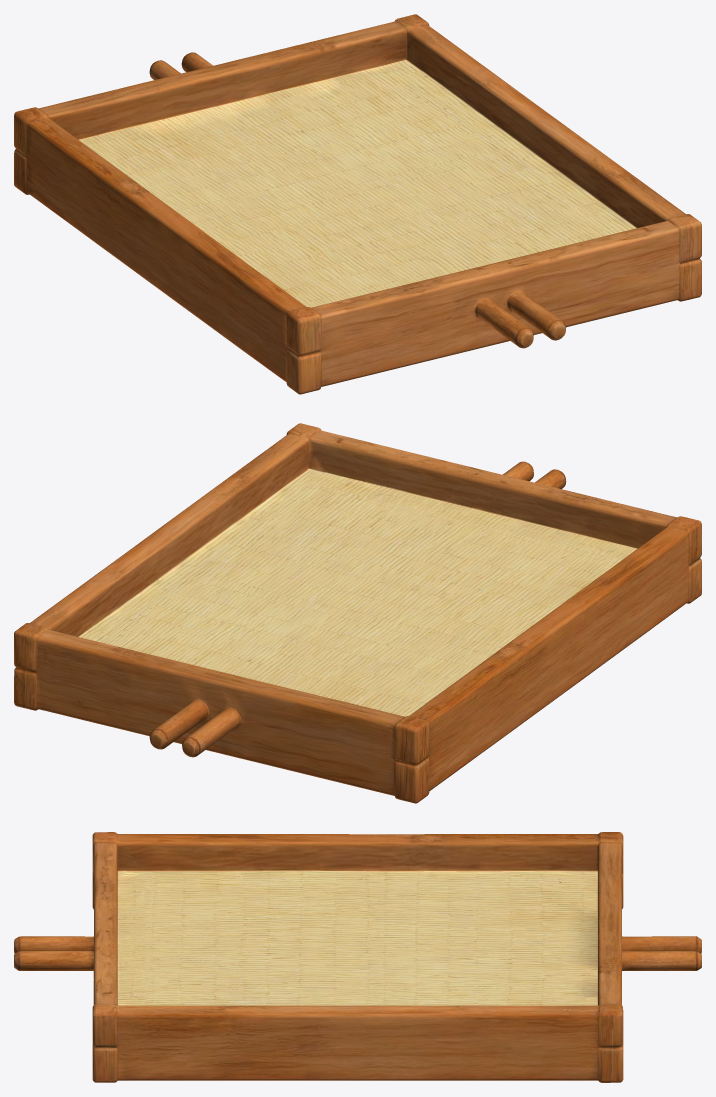
File: mould.glb
3 renders of one model, top to bottom at view 1: azimuth 30°, elevation 25°; view 2: azimuth 150°, elevation 25°; view 3: azimuth 270°, elevation 25°, orthographic. The views are drawn at different scales.
Visible parts, largest first — view 1: mould; view 2: mould; view 3: mould.
Part boxes in pixels (bbox=[...]): mould: bbox=[14, 14, 701, 394]; mould: bbox=[14, 423, 701, 803]; mould: bbox=[14, 832, 701, 1082].
Bounding box in the file's own units: 0.629 × 0.1128 × 1.
1 material, 1 textured.
